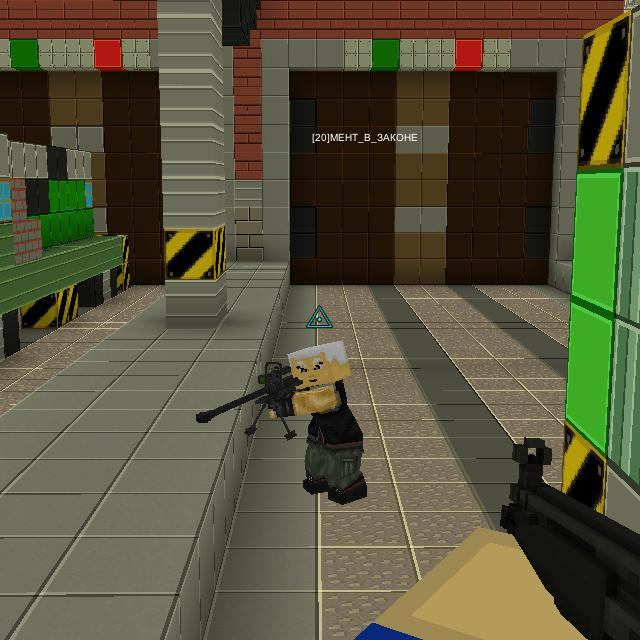enemy: (266, 336, 373, 504)
